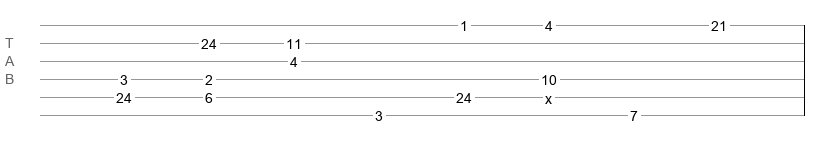1: (460, 18, 468, 28)
10: (541, 72, 557, 82)
11: (286, 36, 302, 46)
2: (205, 72, 213, 82)
21: (711, 18, 727, 28)
24: (116, 90, 132, 100), (201, 36, 217, 46), (456, 90, 472, 100)
3: (120, 72, 128, 82), (375, 108, 383, 118)
4: (290, 54, 298, 64), (545, 18, 553, 28)
6: (205, 90, 213, 100)
7: (630, 108, 638, 118)
x: (545, 91, 552, 99)
